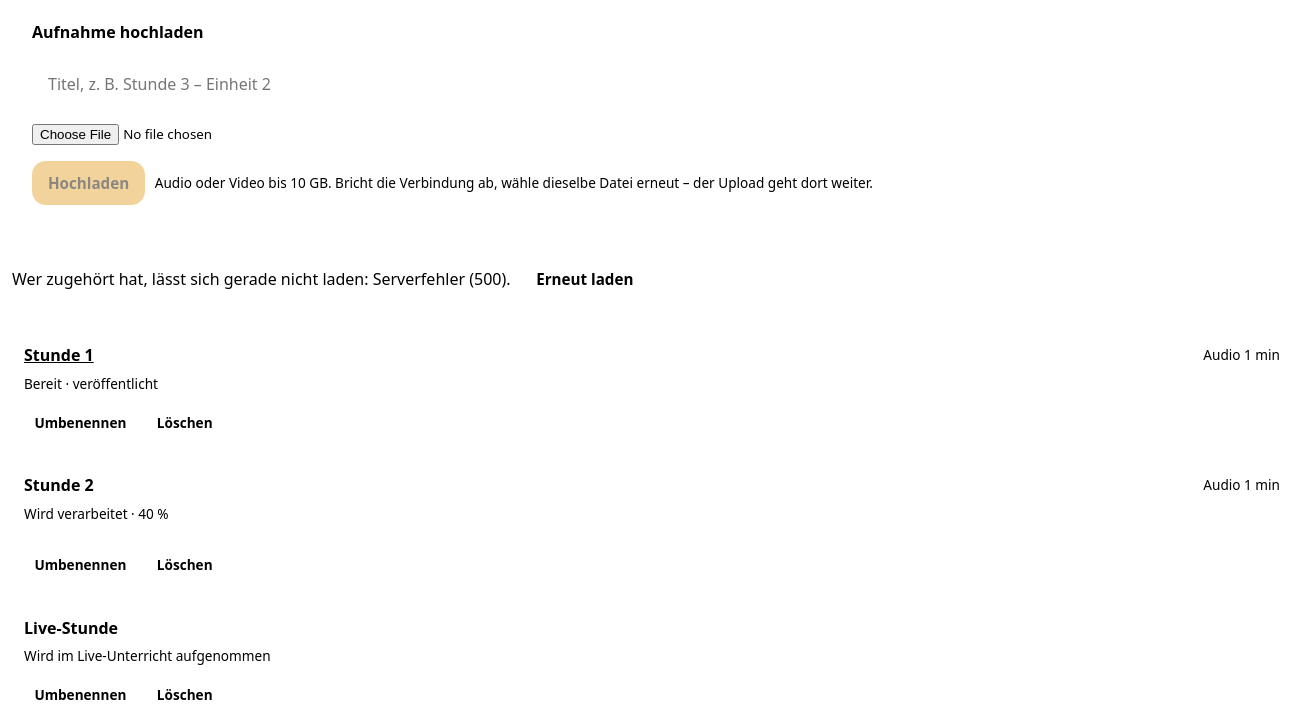
Recordings (integration) › tells the teacher when the listening report fails, and loads it again
Click the button "Erneut laden": (585, 279) [520,257,649,301]
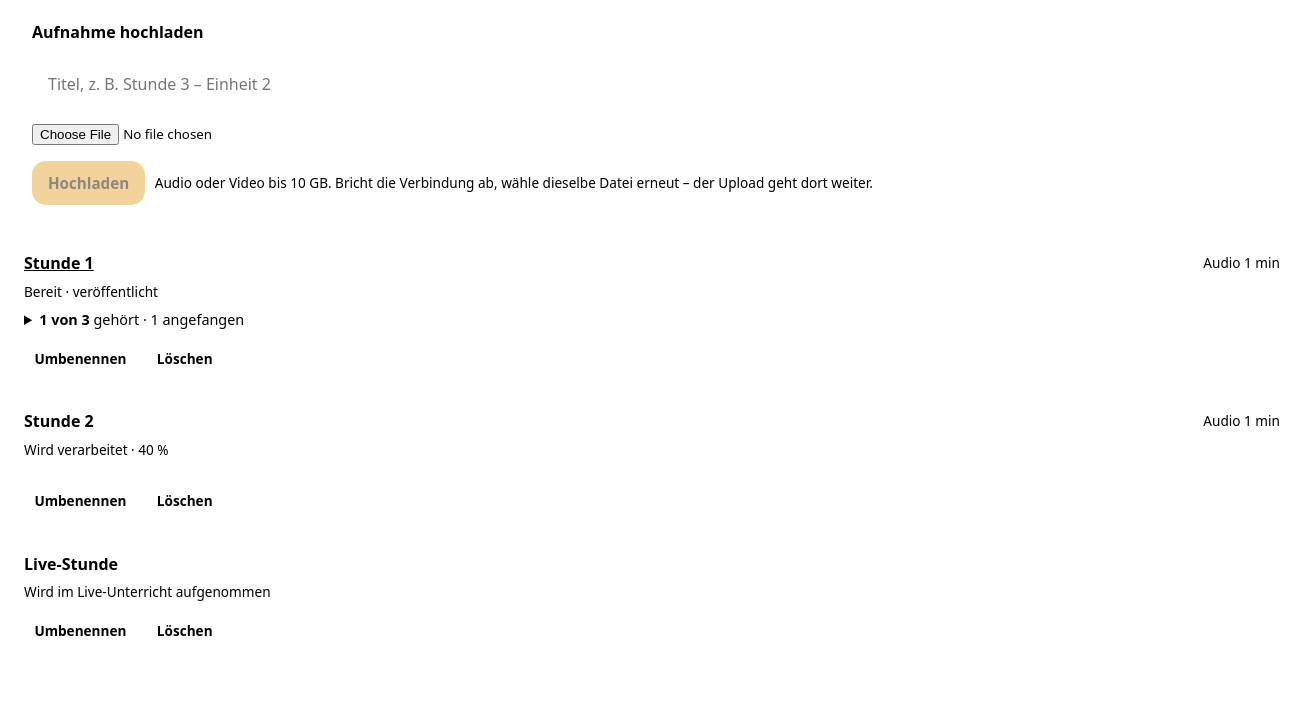
expect the text "1 von 3" is shown: met, box [39,310,90,329]
expect the text "lässt sich gerade nicht laden" is gone: met
